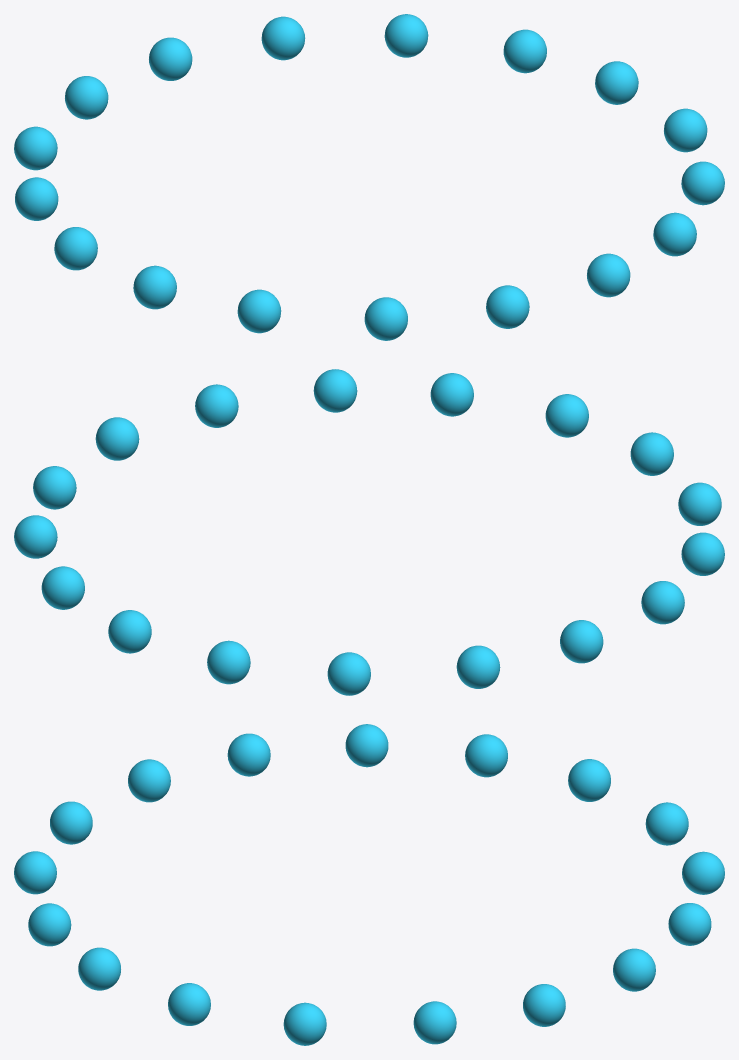
The picture shows the model from 3 angles, top to bottom: view 1: azimuth 30°, elevation 25°; view 2: azimuth 150°, elevation 25°; view 3: azimuth 270°, elevation 25°; orthographic projection.
Visible parts, largest first — view 1: Sphere048; view 2: Sphere048; view 3: Sphere048.
Boxes of the visible parts, left/top/right/bottom form: Sphere048: left=14, top=14, right=724, bottom=340; Sphere048: left=14, top=369, right=724, bottom=695; Sphere048: left=14, top=724, right=724, bottom=1045.
Bounding box in the file's own units: 134 × 8.22 × 135.
